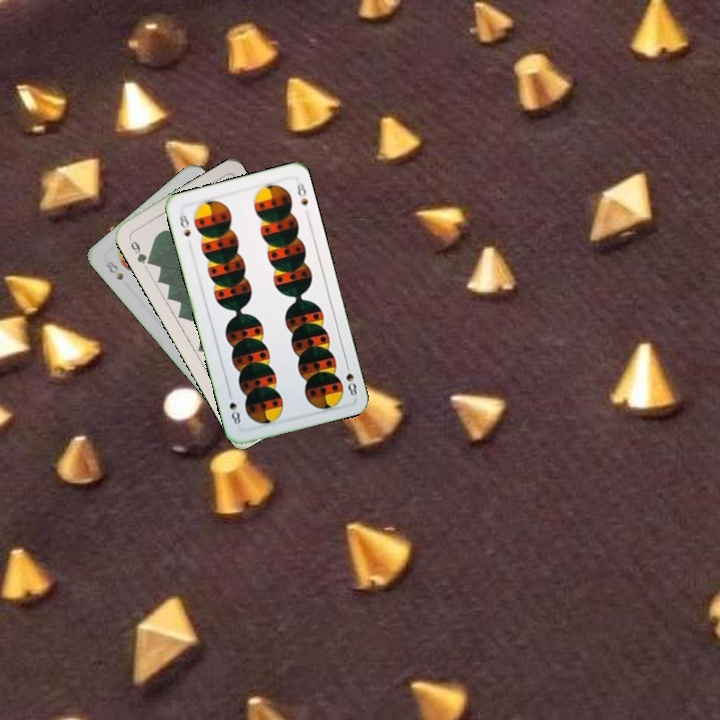G9: (124, 233, 154, 267)
S8: (341, 358, 360, 399), (101, 257, 126, 283), (175, 211, 193, 239)
